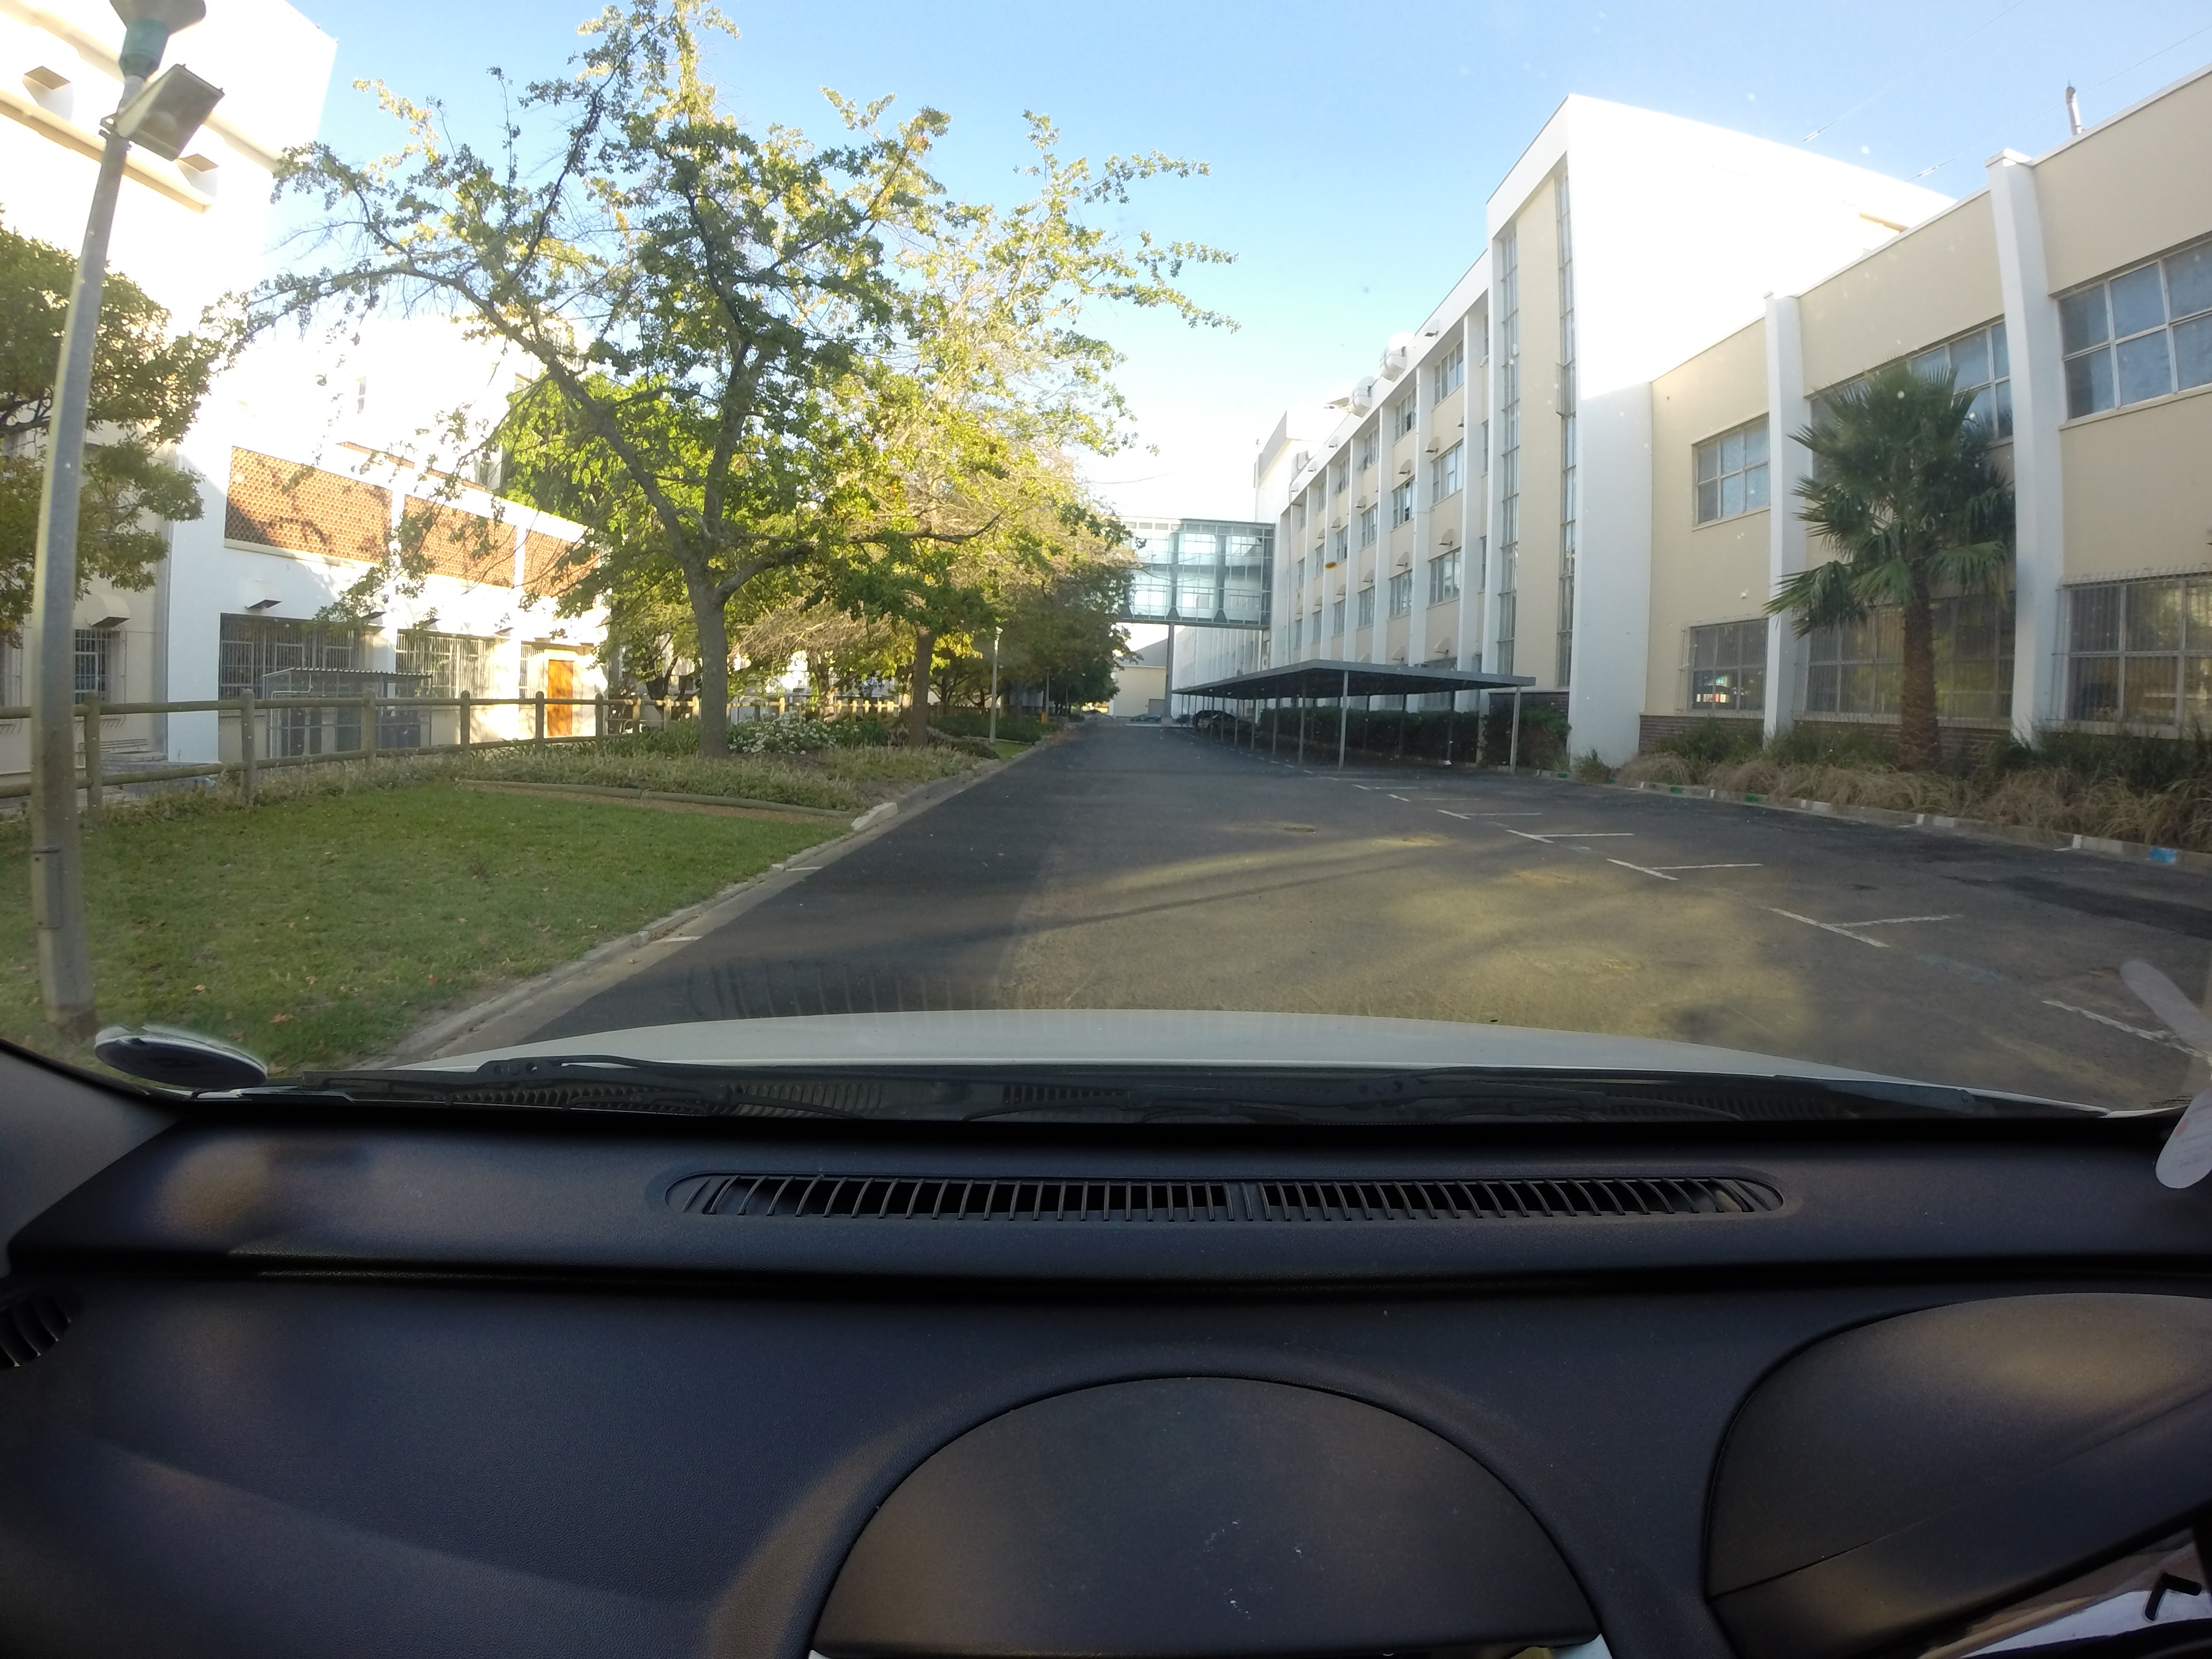pothole: (1273, 824, 1348, 842)
